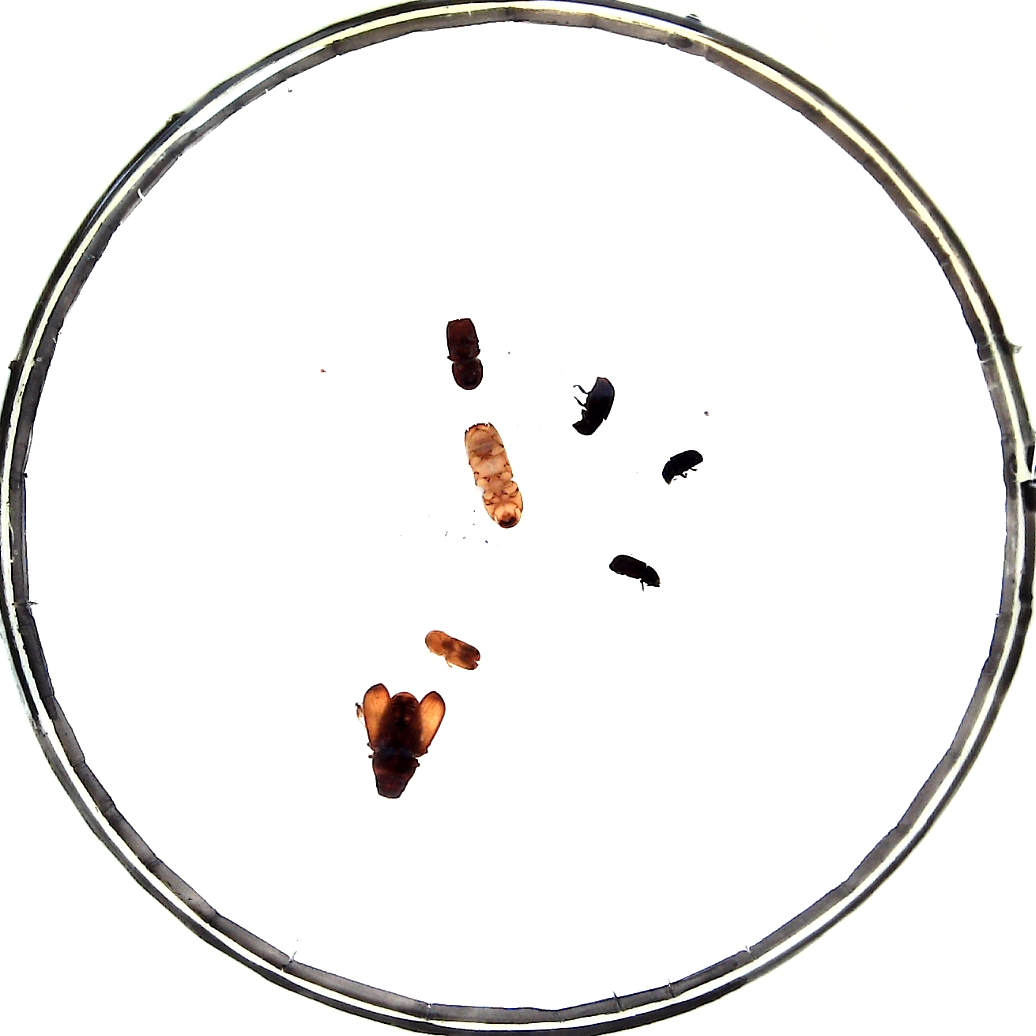Boerner: (464, 424, 522, 530)
Leconte: (358, 682, 446, 799)
Linnaeus: (441, 315, 483, 390)
acuminatus: (425, 624, 479, 669)
armandi: (570, 376, 616, 434)
coleoptera: (602, 554, 661, 584), (656, 449, 702, 482)
